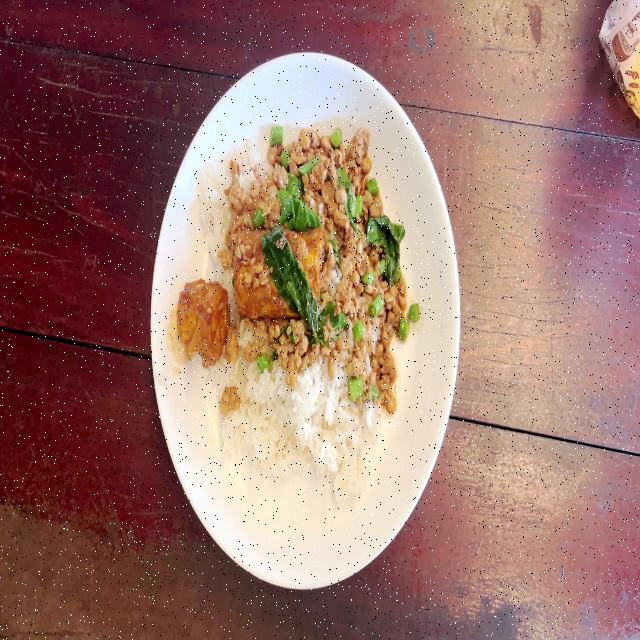fried_tofo: (228, 228, 322, 317), (173, 273, 230, 360)
minced_pork: (228, 127, 390, 227), (325, 230, 402, 393)
rice: (221, 376, 376, 489)
stir_fried_basil: (173, 128, 432, 504)
